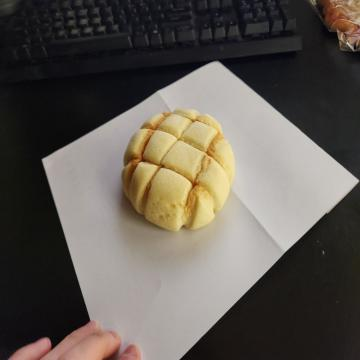melon_bread: (121, 106, 236, 238)
